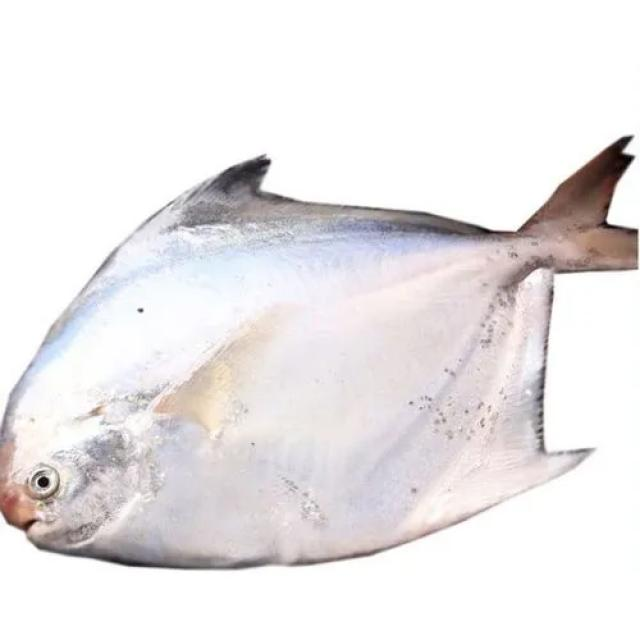pomfred: (0, 136, 639, 568)
